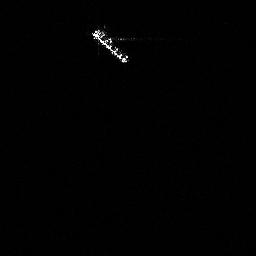ship: (92, 27, 129, 64)
